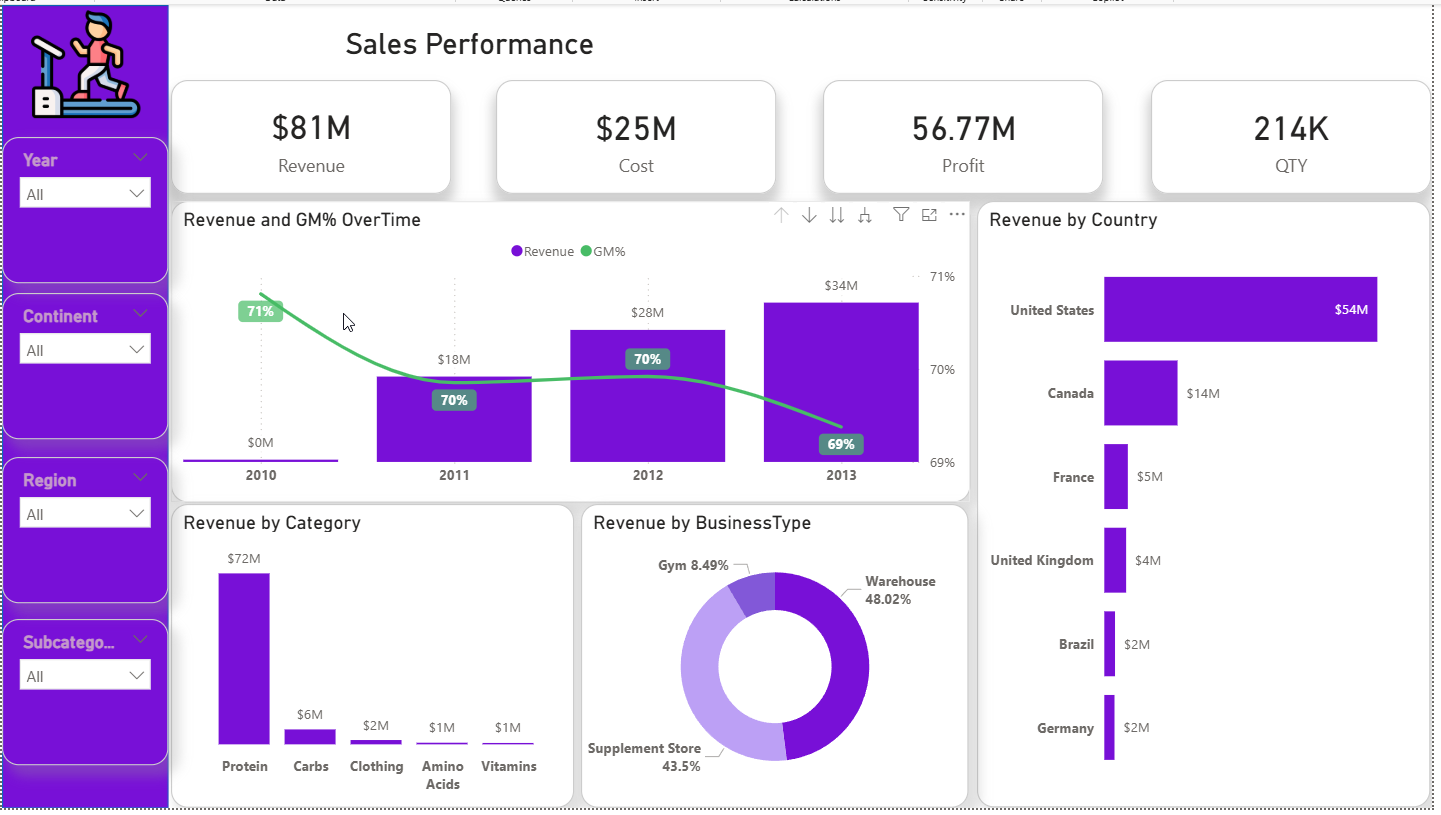

Layout of this report page (visuals, bound fields, positions):
{"tool":"powerbi","page":{"name":"Sales Performance","canvas":[1280,720],"ordinal":0},"visuals":[{"type":"shape","box":[0,1,149.3,719.5],"z":0,"group":"g2"},{"type":"card","fields":{"Values":["Revenue.01 Revenue"]},"box":[151.2,68.4,251.4,102.1],"z":0},{"type":"card","fields":{"Values":["Revenue.02 cost"]},"box":[442.5,68.2,251.2,102.4],"z":1000},{"type":"card","fields":{"Values":["Revenue.05 Profit"]},"box":[735.6,68.2,251.2,102.4],"z":2000},{"type":"card","fields":{"Values":["Revenue.03 QTY"]},"box":[1028.8,68.2,251.2,102.4],"z":3000},{"type":"lineClusteredColumnComboChart","title":"Revenue and GM% OverTime","fields":{"Category":["CalendarTable.Year","CalendarTable.Quarter"],"Y":["Revenue.01 Revenue"],"Y2":["Revenue.08 GM%"]},"box":[151.2,176.3,715.6,269.7],"z":4000},{"type":"barChart","fields":{"Y":["Revenue.01 Revenue"],"Category":["Customers.CountryName"]},"box":[873.6,176.3,406.4,543.2],"z":5000},{"type":"columnChart","fields":{"Y":["Revenue.01 Revenue"],"Category":["Product.CategoryName"]},"box":[151.3,447.8,360.9,272.2],"z":6000},{"type":"donutChart","fields":{"Y":["Revenue.01 Revenue"],"Category":["Customers.BusinessType"]},"box":[518.5,447.8,347.5,272.2],"z":7000},{"type":"group","id":"g1","title":"Group 1","box":[0,0,149.3,720.4],"z":8000},{"type":"card","fields":{"Values":["Revenue.General Title"]},"box":[152,0,540,68],"z":9000},{"type":"group","id":"g2","title":"Group 2","box":[0,1,149.3,719.5],"z":9000,"group":"g1"},{"type":"group","id":"g3","title":"Group 3","box":[0,0,149.3,681.9],"z":11509,"group":"g1"},{"type":"slicer","fields":{"Values":["CalendarTable.Year"]},"box":[0,119.4,149.3,131],"z":12004,"group":"g3"},{"type":"slicer","fields":{"Values":["Customers.Continent"]},"box":[0,259.1,149.3,131],"z":12504,"group":"g3"},{"type":"slicer","fields":{"Values":["Customers.Region"]},"box":[0,405.5,149.3,131],"z":13004,"group":"g3"},{"type":"slicer","fields":{"Values":["Product.SubcategoryName"]},"box":[0,550.9,149.3,131],"z":13504,"group":"g3"},{"type":"image","box":[0,0,149.3,107.9],"z":14004,"group":"g3"}]}

Visuals, with their boxes on the page's 1280x720 design canvas (x1, y1, x2, y2). These are canvas units, not pixel positions in the 1441x815 screenshot, which may show the page scaled, cropped or inside an application window:
shape: {"left": 0, "top": 1, "right": 149, "bottom": 720}
card - Revenue.01 Revenue: {"left": 151, "top": 68, "right": 403, "bottom": 170}
card - Revenue.02 cost: {"left": 442, "top": 68, "right": 694, "bottom": 171}
card - Revenue.05 Profit: {"left": 736, "top": 68, "right": 987, "bottom": 171}
card - Revenue.03 QTY: {"left": 1029, "top": 68, "right": 1280, "bottom": 171}
"Revenue and GM% OverTime" lineClusteredColumnComboChart: {"left": 151, "top": 176, "right": 867, "bottom": 446}
barChart - Revenue.01 Revenue x Customers.CountryName: {"left": 874, "top": 176, "right": 1280, "bottom": 720}
columnChart - Revenue.01 Revenue x Product.CategoryName: {"left": 151, "top": 448, "right": 512, "bottom": 720}
donutChart - Revenue.01 Revenue x Customers.BusinessType: {"left": 518, "top": 448, "right": 866, "bottom": 720}
"Group 1" group: {"left": 0, "top": 0, "right": 149, "bottom": 720}
card - Revenue.General Title: {"left": 152, "top": 0, "right": 692, "bottom": 68}
"Group 2" group: {"left": 0, "top": 1, "right": 149, "bottom": 720}
"Group 3" group: {"left": 0, "top": 0, "right": 149, "bottom": 682}
slicer - CalendarTable.Year: {"left": 0, "top": 119, "right": 149, "bottom": 250}
slicer - Customers.Continent: {"left": 0, "top": 259, "right": 149, "bottom": 390}
slicer - Customers.Region: {"left": 0, "top": 406, "right": 149, "bottom": 536}
slicer - Product.SubcategoryName: {"left": 0, "top": 551, "right": 149, "bottom": 682}
image: {"left": 0, "top": 0, "right": 149, "bottom": 108}
